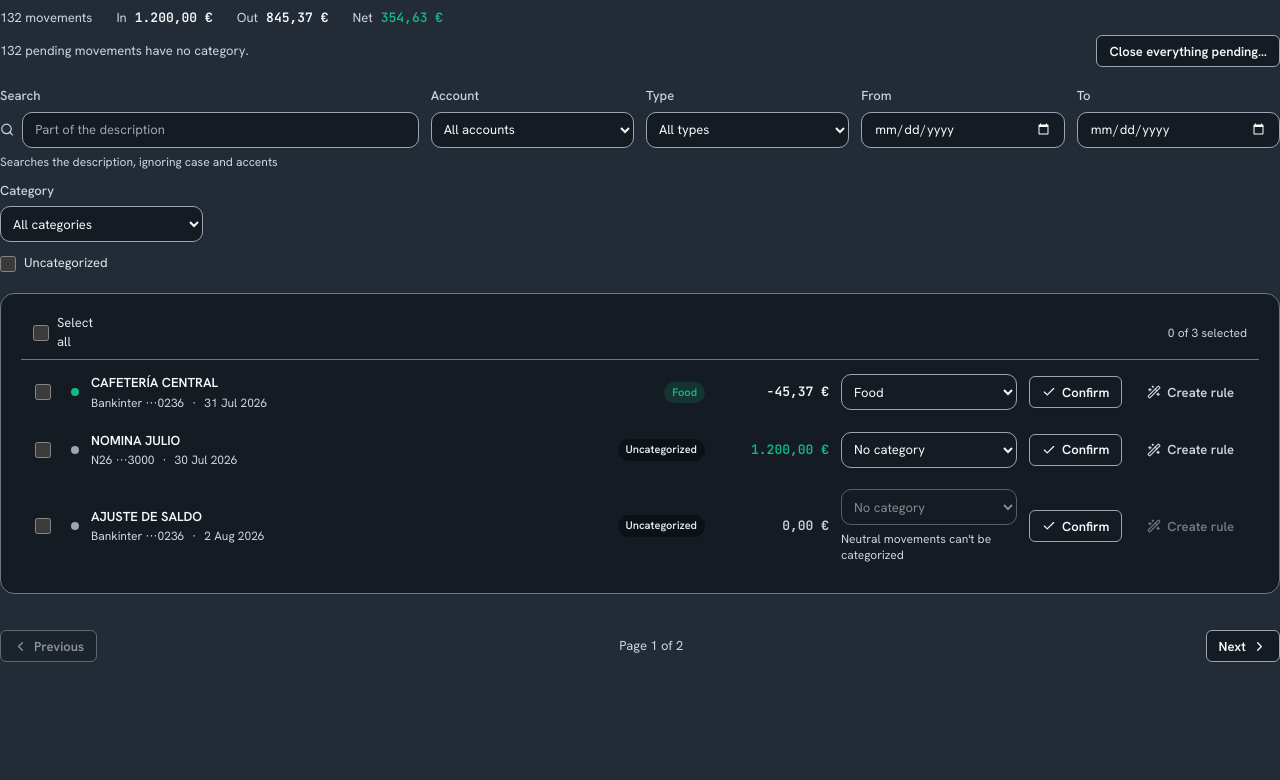
Test: ReviewView › filters and the URL (R5, R10) › writes the page into the query and asks for it
What coordinates should you click on to do the following:
click the button with test id "pager-next"
I would click on:
 (1243, 646)
Its box is [1206,630,1279,662].
(page scrolled)
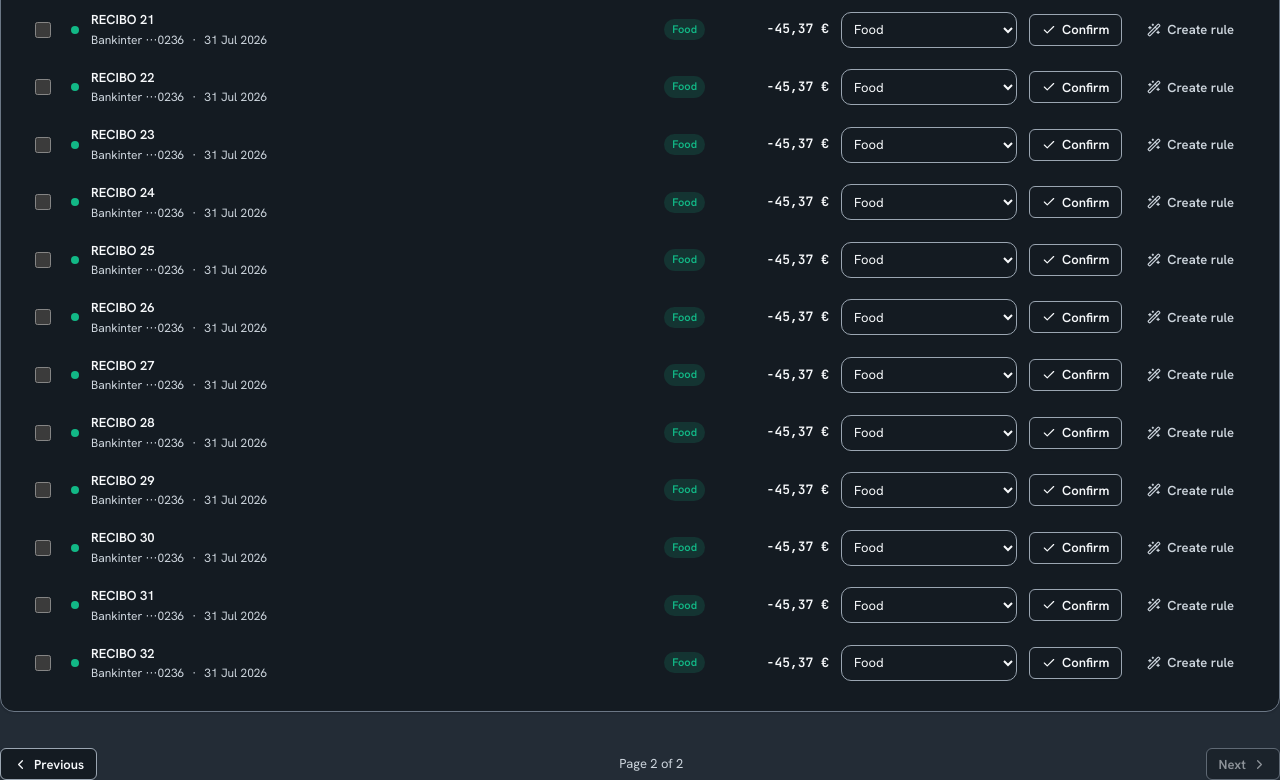
Expected: the text with test id "pager-position" reads "Page 2 of 2", [619,755,683,772]
